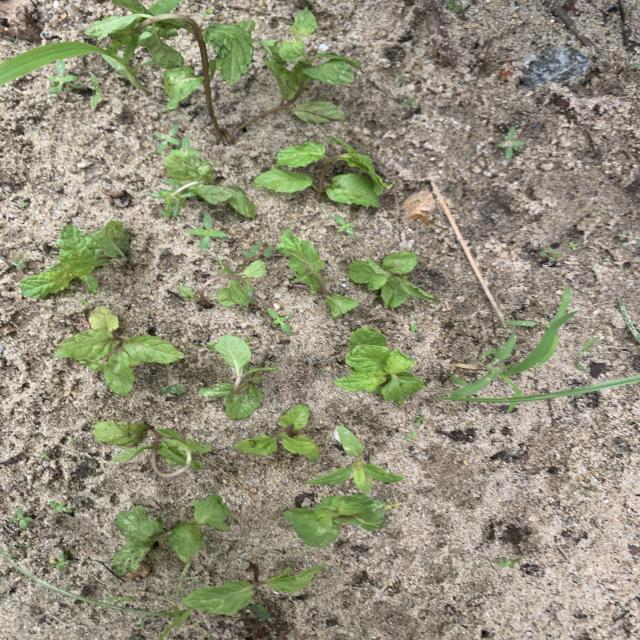crop: (86, 1, 253, 108), (238, 15, 359, 129), (55, 306, 183, 395), (254, 138, 391, 206), (113, 494, 229, 574), (21, 221, 129, 297), (155, 139, 255, 218), (184, 565, 323, 615), (277, 228, 355, 317), (335, 326, 423, 403), (200, 335, 276, 419), (307, 426, 403, 492), (94, 423, 211, 476), (283, 495, 389, 546), (348, 252, 437, 306), (180, 258, 267, 307), (235, 406, 310, 455)
weed: (436, 288, 640, 413), (3, 555, 186, 638), (0, 42, 147, 93), (189, 214, 227, 250), (49, 61, 79, 93), (496, 126, 524, 159), (156, 125, 180, 151), (268, 309, 291, 333), (244, 242, 274, 259), (49, 552, 72, 571), (10, 508, 31, 528), (335, 215, 354, 236), (540, 245, 562, 263), (90, 74, 99, 109), (49, 501, 71, 514), (161, 385, 185, 394), (12, 255, 27, 268), (498, 558, 519, 567), (401, 97, 418, 107), (448, 1, 463, 11), (414, 414, 423, 427), (405, 432, 417, 439)
